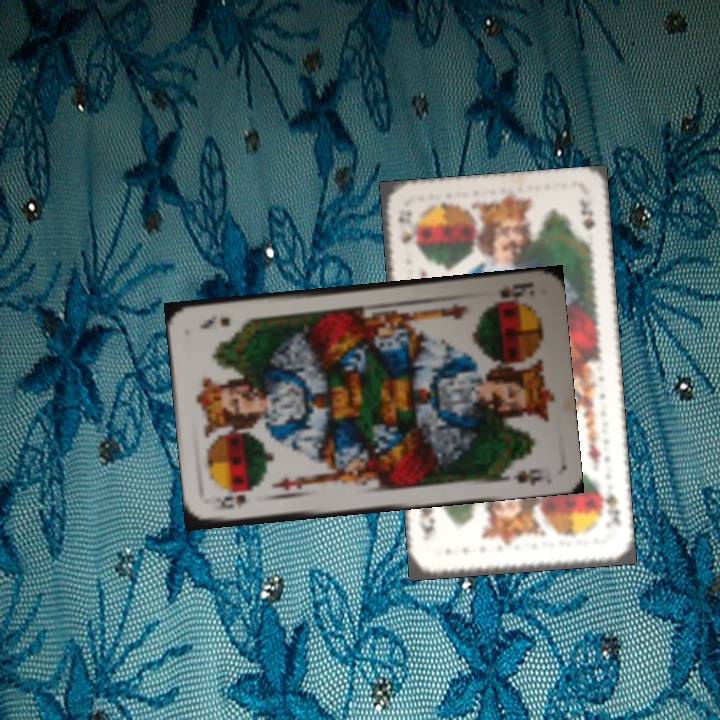SK: (595, 481, 623, 529), (490, 278, 537, 306), (208, 489, 249, 512), (394, 205, 415, 246)
